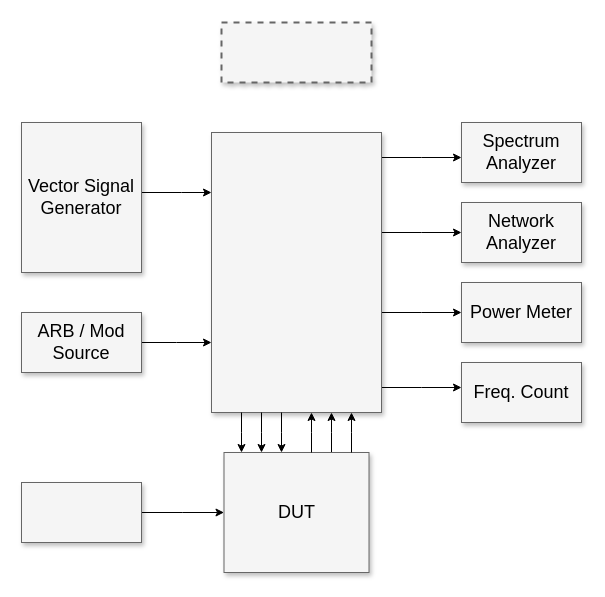
The diagram is 605 pixels wide and 597 high, and some of its shapes have lost their labels. The shapes that lost their labels are listed below. From the top down, each one's centre as x and y in pixels, then its label:
At (297,53): "Software Control".
At (297,274): "The Brain Laptop for computing".
At (82,514): "DC Power Supplies".
